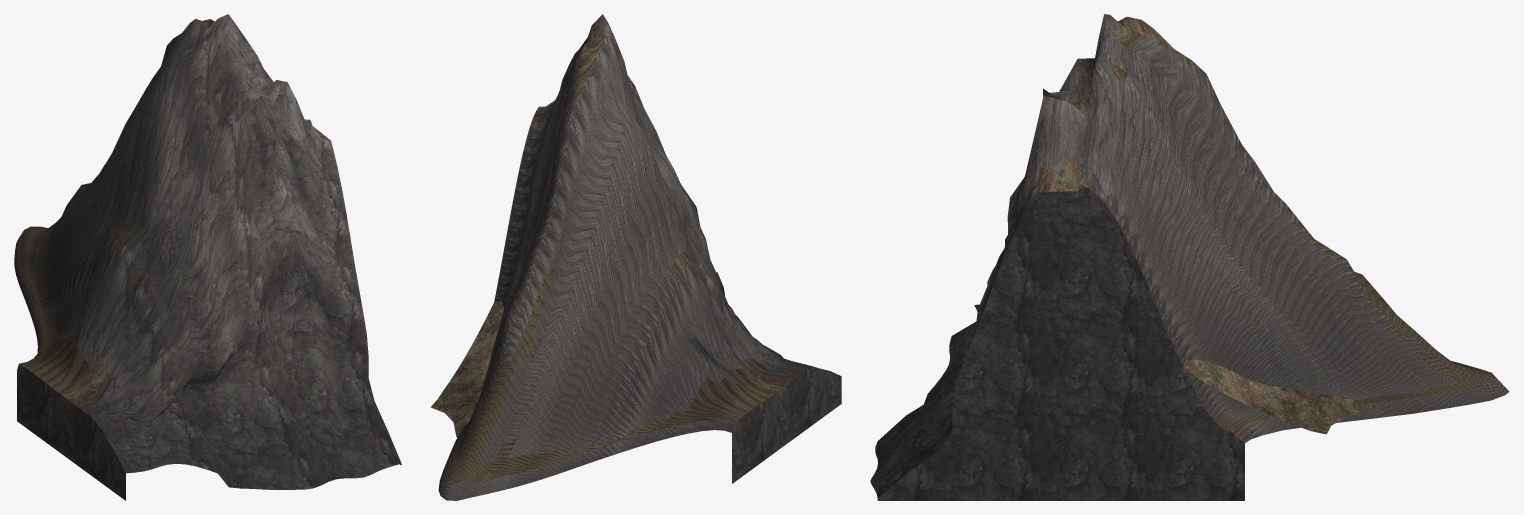
The model's file is seacliff_endcap_left_h5_a_v5_autumn.glb.
3 renders of one model, left to right at view 1: azimuth 30°, elevation 25°; view 2: azimuth 150°, elevation 25°; view 3: azimuth 270°, elevation 25°, orthographic. The views are drawn at different scales.
Parts seen in each view (by area): view 1: seacliff_endcap_left_h5_a; view 2: seacliff_endcap_left_h5_a; view 3: seacliff_endcap_left_h5_a.
Boxes of the visible parts, x1,y1,x2,y2 form: seacliff_endcap_left_h5_a: [14, 14, 401, 500]; seacliff_endcap_left_h5_a: [430, 14, 841, 500]; seacliff_endcap_left_h5_a: [870, 14, 1509, 500].
Size of the model in its own units: 6 by 9.35 by 12.12.
Materials: 2 (2 with a texture image).
